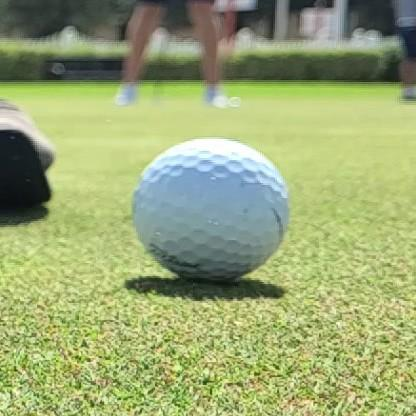golfball: (132, 139, 290, 282)
